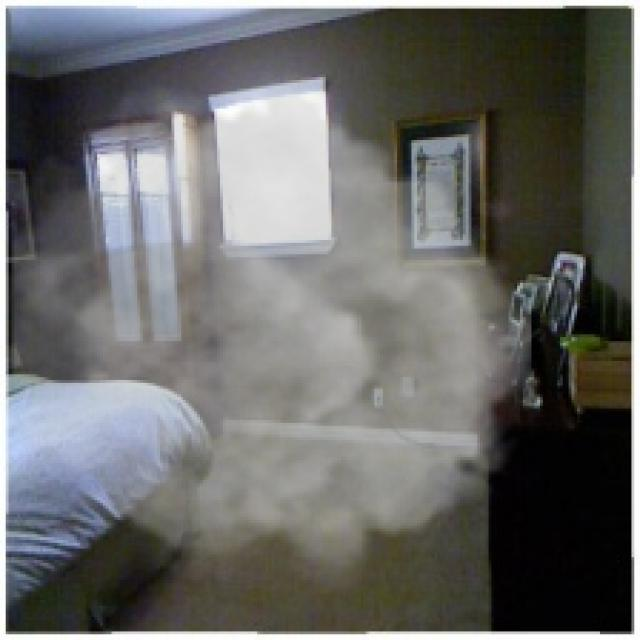Smoke: (11, 68, 532, 594)
